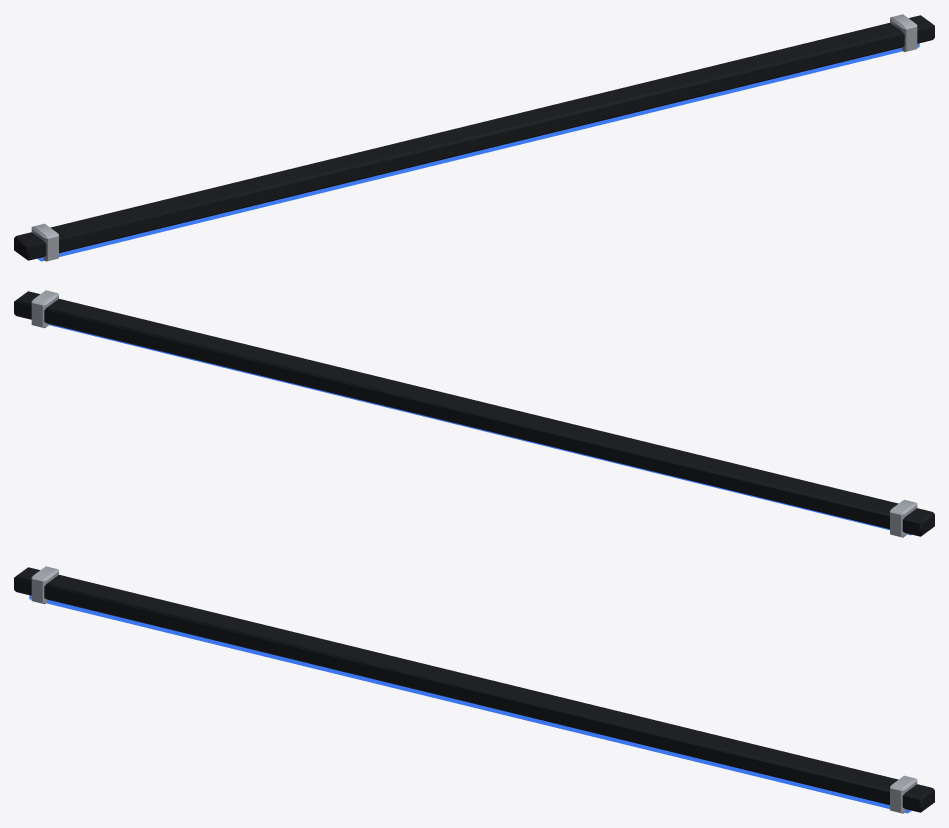
File: striplight_under_console_glow.glb
3 renders of one model, top to bottom at view 1: azimuth 30°, elevation 25°; view 2: azimuth 150°, elevation 25°; view 3: azimuth 330°, elevation 25°, orthographic.
Visible parts, largest first — view 1: striplight_under_console_glow; view 2: striplight_under_console_glow; view 3: striplight_under_console_glow.
Part boxes in pixels (left/top/right/bottom): striplight_under_console_glow: left=14, top=14, right=934, bottom=261; striplight_under_console_glow: left=14, top=290, right=934, bottom=537; striplight_under_console_glow: left=14, top=566, right=934, bottom=813.
Bounding box in the file's own units: 1.8 × 0.05 × 0.056.
